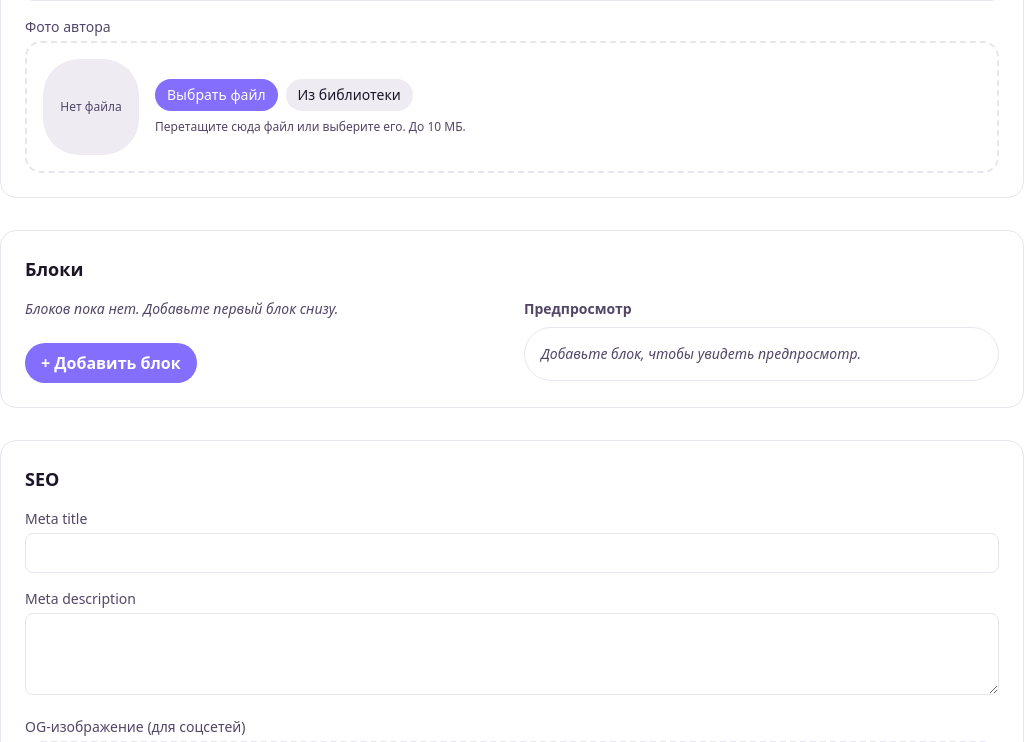
it: BlogPostForm › в блоках можно добавить подборку товаров для перелинковки
(page scrolled)
Click the button "+ Добавить блок": (111, 363) x1=25 y1=343 x2=197 y2=383
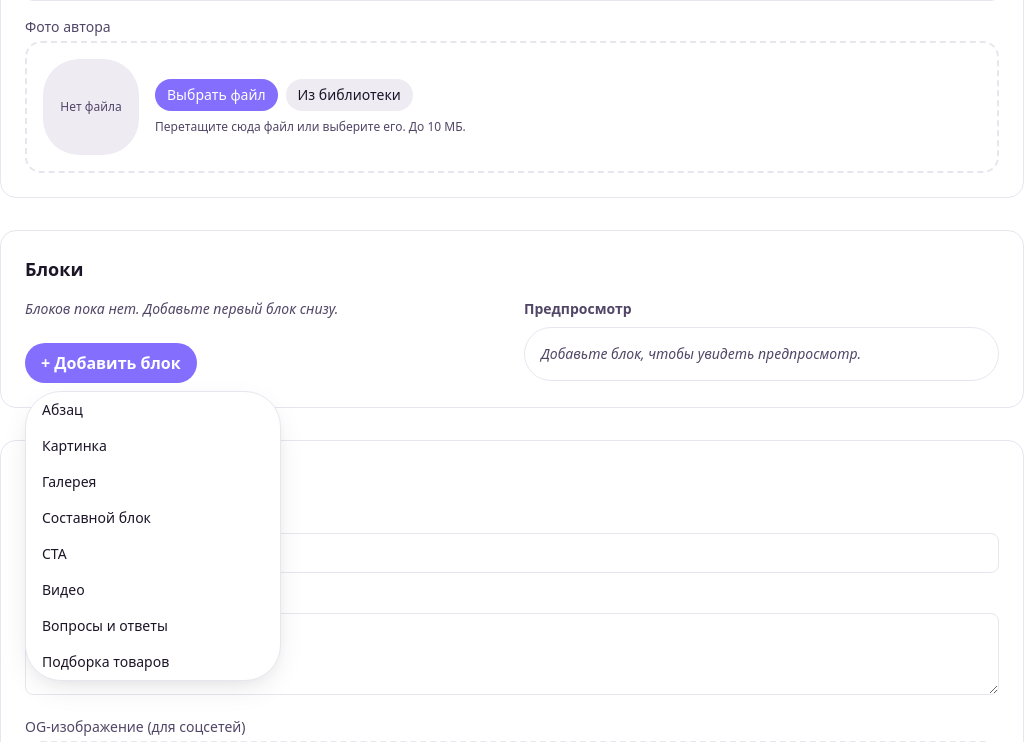
Click the menu item "Подборка товаров": (153, 662) x1=26 y1=644 x2=280 y2=680
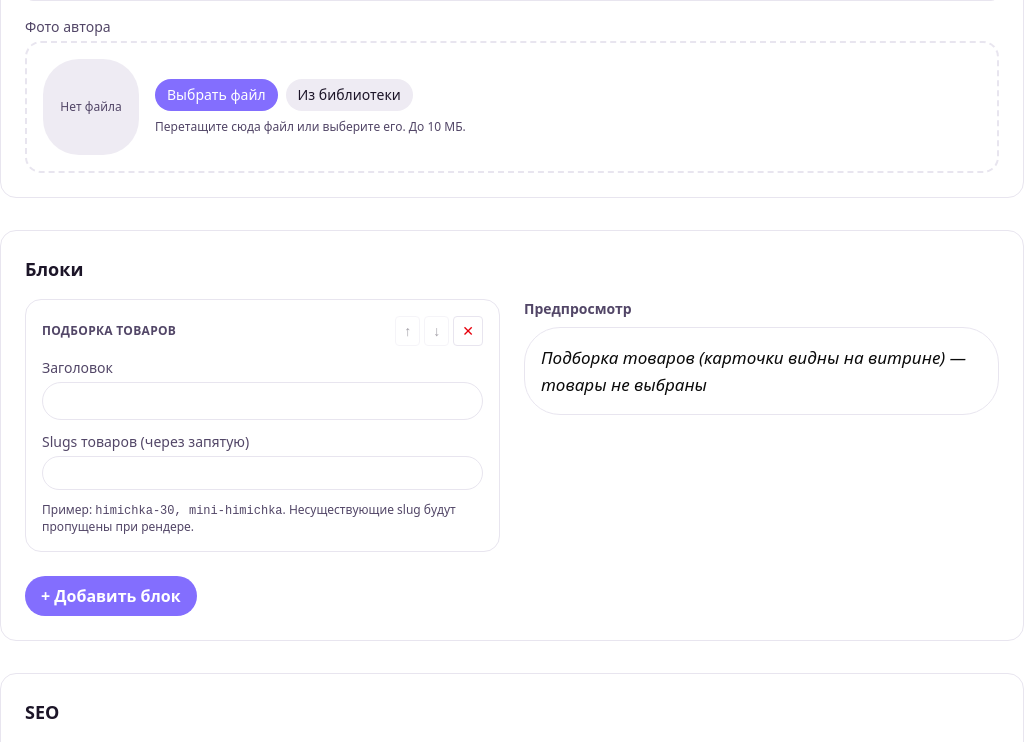
Result: the field labelled "Slugs товаров (через запятую)" is shown at x1=42 y1=456 x2=483 y2=490
